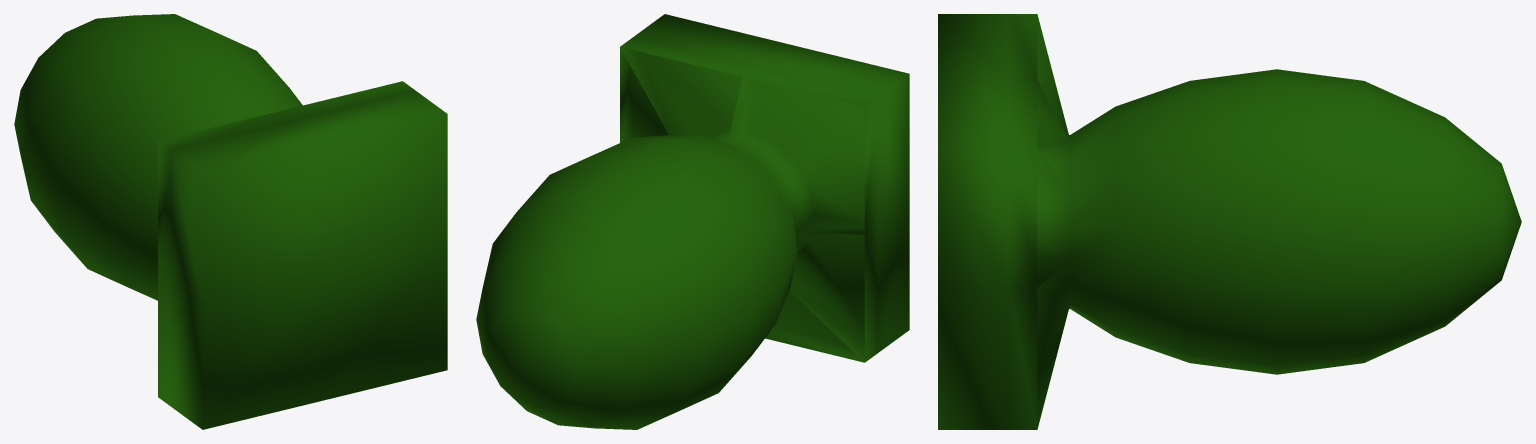
Rendered from nuclear bomb.fbx.
3 views of the same model, side by side, from view 1: azimuth 30°, elevation 25°; view 2: azimuth 150°, elevation 25°; view 3: azimuth 270°, elevation 25° (orthographic). The views are drawn at different scales.
Parts seen in each view (by area): view 1: Sphere; view 2: Sphere; view 3: Sphere.
Part boxes in pixels (<box>): Sphere: <box>14,14,447,429</box>; Sphere: <box>476,14,909,429</box>; Sphere: <box>938,14,1521,429</box>.
Size of the model in its own units: 210 by 210 by 392.
